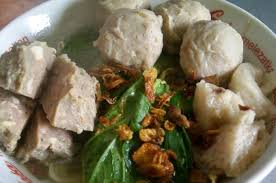bakso: (5, 6, 261, 167)
